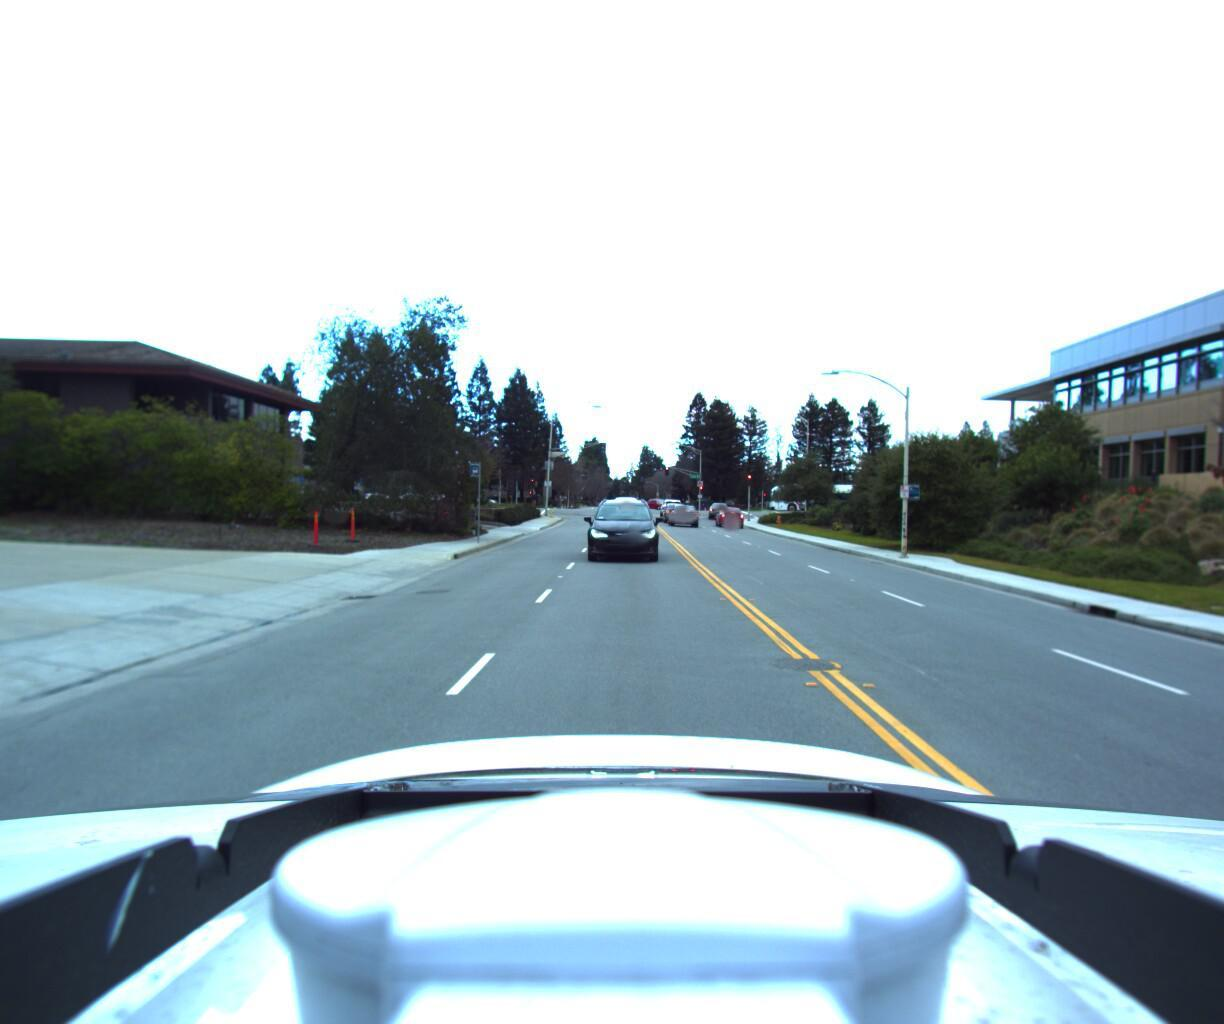car: (580, 493, 658, 564), (666, 501, 702, 524), (715, 505, 745, 527), (659, 499, 685, 521), (652, 495, 680, 515), (705, 501, 728, 518)
